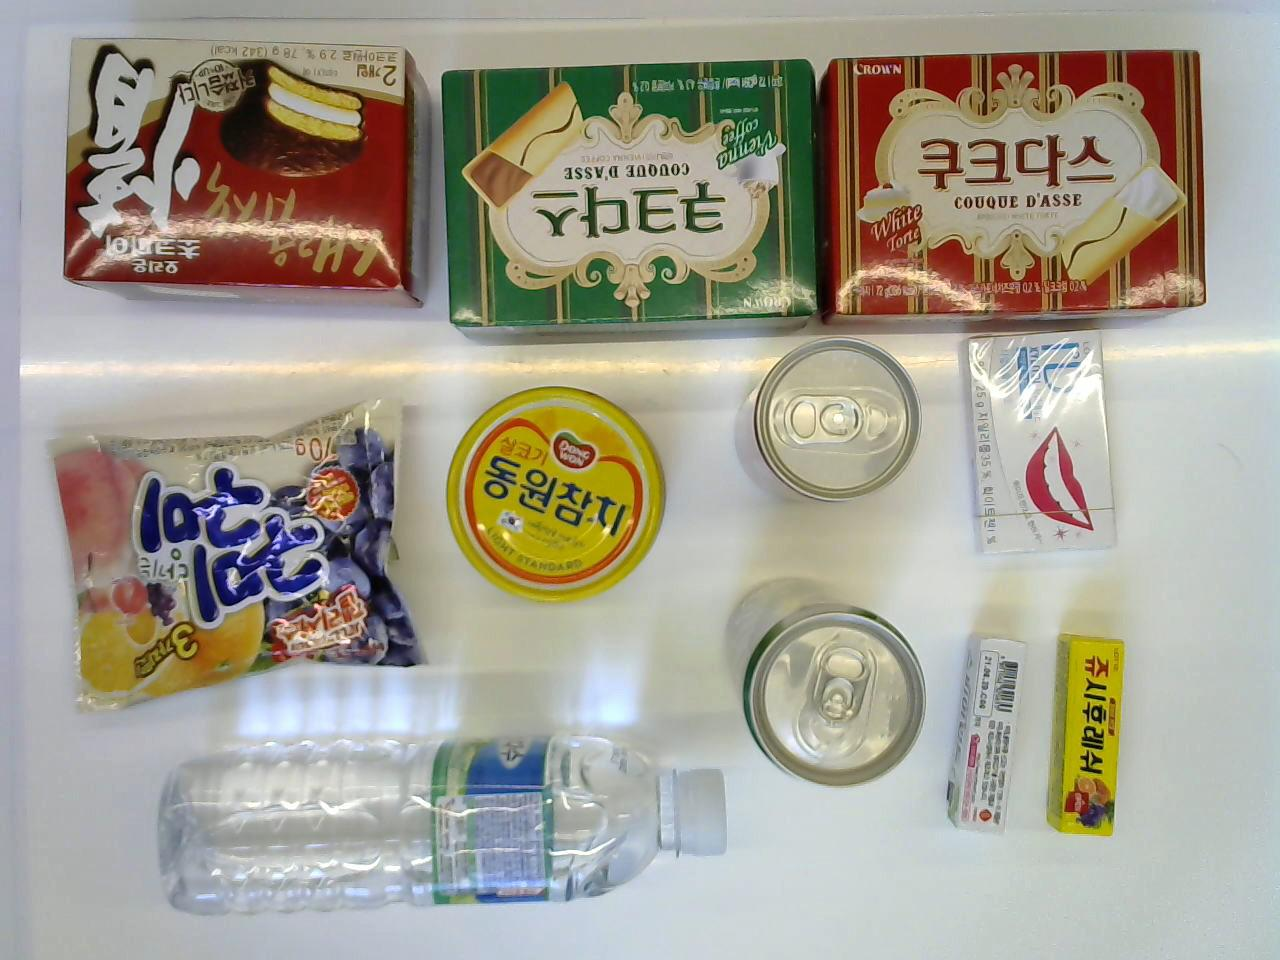ID_gum: (952, 328, 1123, 561)
chocopie: (54, 20, 427, 309)
cidar: (726, 574, 931, 793)
coke: (731, 334, 929, 506)
couque_coffee: (439, 61, 826, 341)
couque_white: (820, 32, 1215, 327)
gumi_gumi: (44, 384, 431, 717)
juicyfresh: (1050, 616, 1135, 845)
samdasu: (151, 727, 735, 928)
spearmint: (940, 623, 1035, 833)
tuna: (436, 381, 670, 607)
